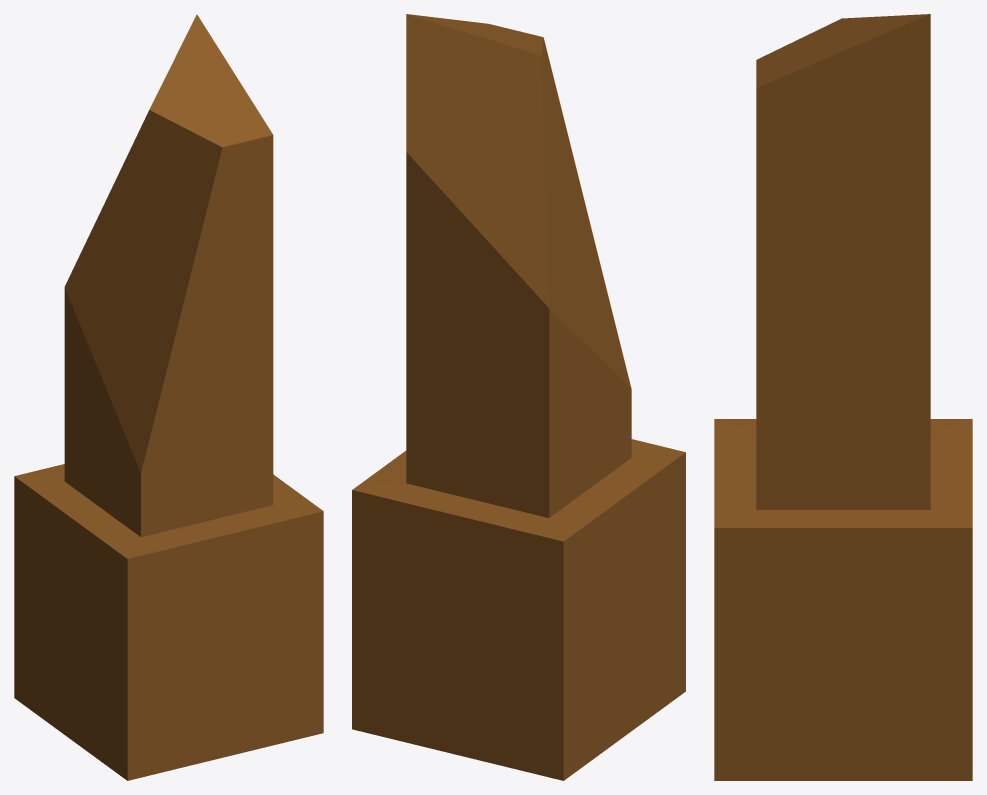
The model's file is Pilar quebrado.fbx.
The picture shows the model from 3 angles, left to right: view 1: azimuth 30°, elevation 25°; view 2: azimuth 150°, elevation 25°; view 3: azimuth 270°, elevation 25°; orthographic projection. The views are drawn at different scales.
Visible parts, largest first — view 1: Cube.011; view 2: Cube.011; view 3: Cube.011.
Part boxes in pixels (x1,y1,x2,y2): Cube.011: (14,14,323,780); Cube.011: (352,14,685,780); Cube.011: (714,14,972,780).
Size of the model in its own units: 79.67 by 255 by 79.67.
